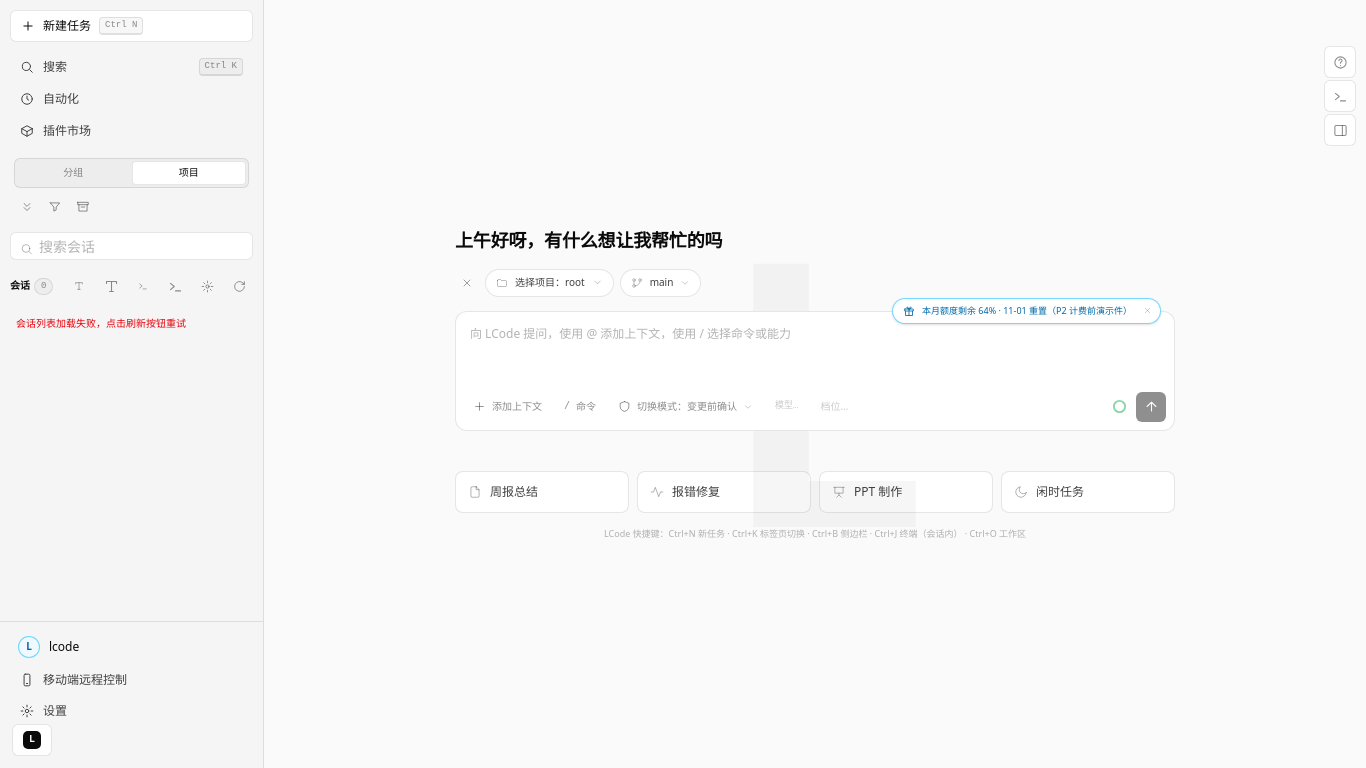
Test case: HomeView · 空态首页结构（B1） › 项目 chip / main 分支钮（F23）：分支钮弹切换器 dialog，项目 chip 与取消钮占位禁用
// F23 分支切换器（toolbar-menus 菜单 6）：搜索框 + 分支组 + 创建置灰 + Git 图谱置灰
Click the button with test id "home-branch-chip".
click(660, 283)  # box [620, 269, 701, 297]
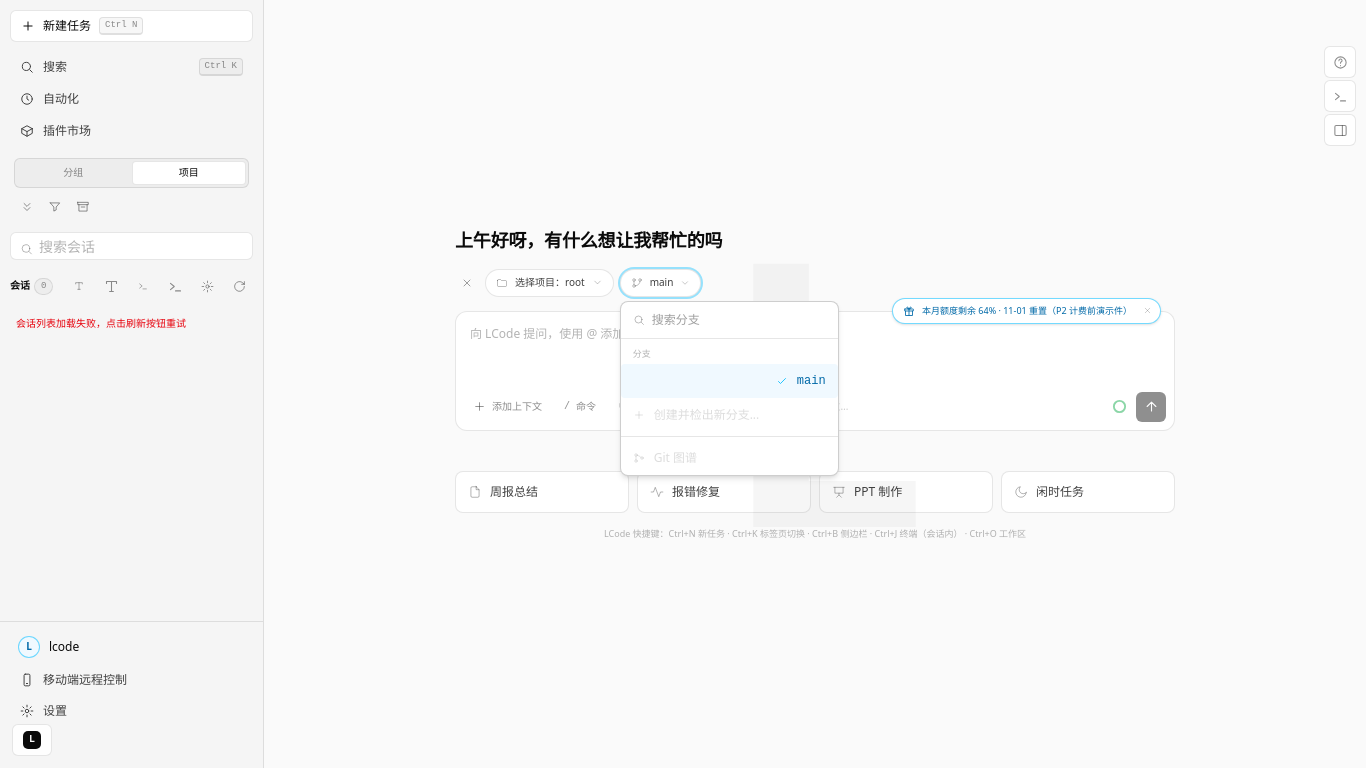
Expected: the field with test id "branch-search" is shown, [652, 311, 826, 329]
Expected: the menu item with test id "menu-item-branch-main" reads "main", [621, 364, 838, 398]
Expected: the menu item with test id "menu-item-create-branch" is disabled, [621, 398, 838, 432]
